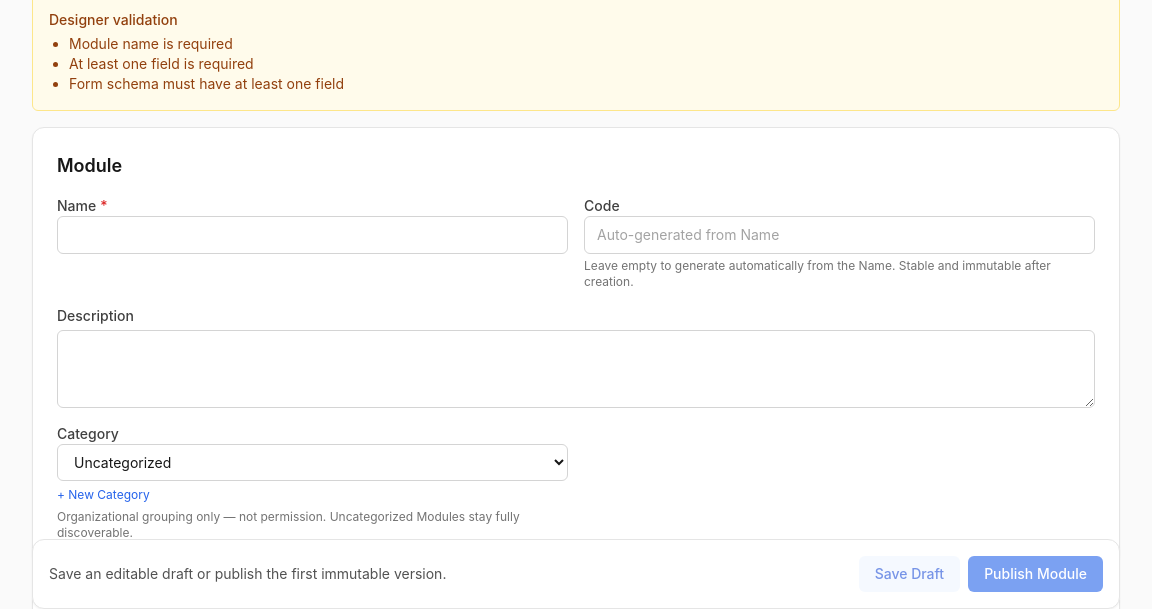
generic Module Designer › uses FormRenderer for preview and creates no canonical Record
Step 1. Type "Preview Module" into the field labelled "Name*" → (312, 235), box [57,216,568,254]
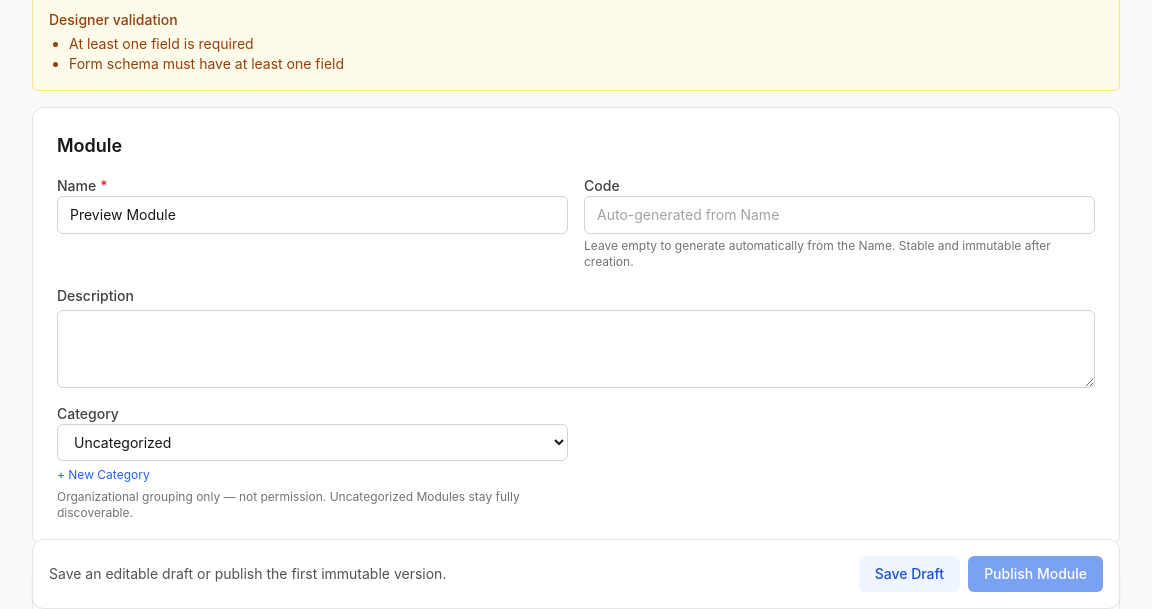
Step 2. Type "PREVIEW_MODULE" into the field labelled "Code" → (840, 215), box [584,196,1095,234]
(page scrolled)
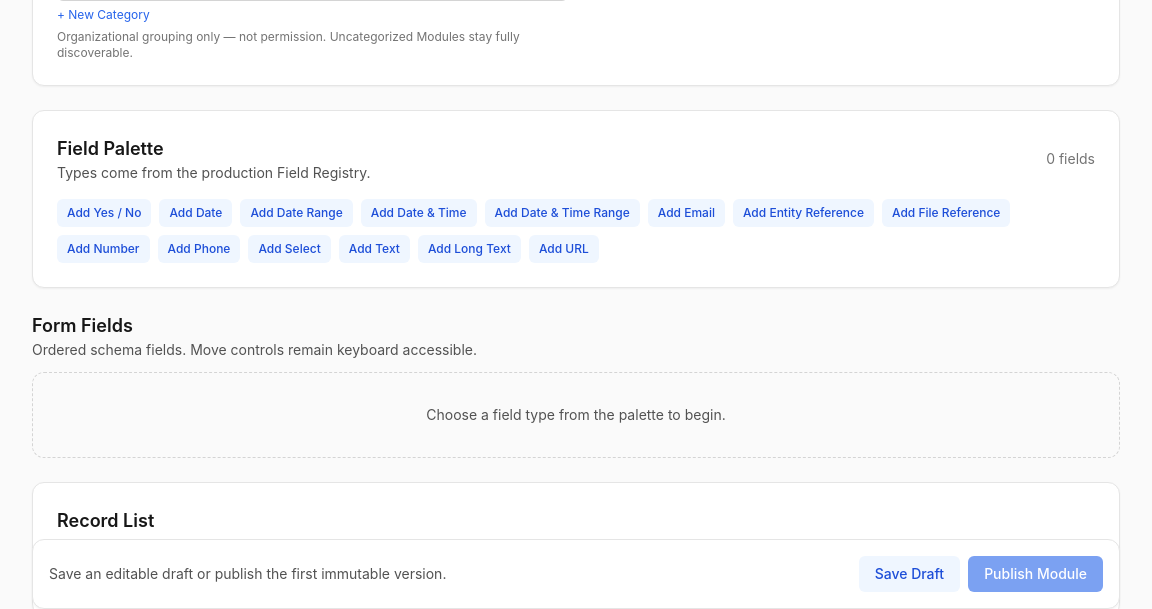
Step 3. Click the button "Add Text" → (374, 249), box [339,235,410,263]
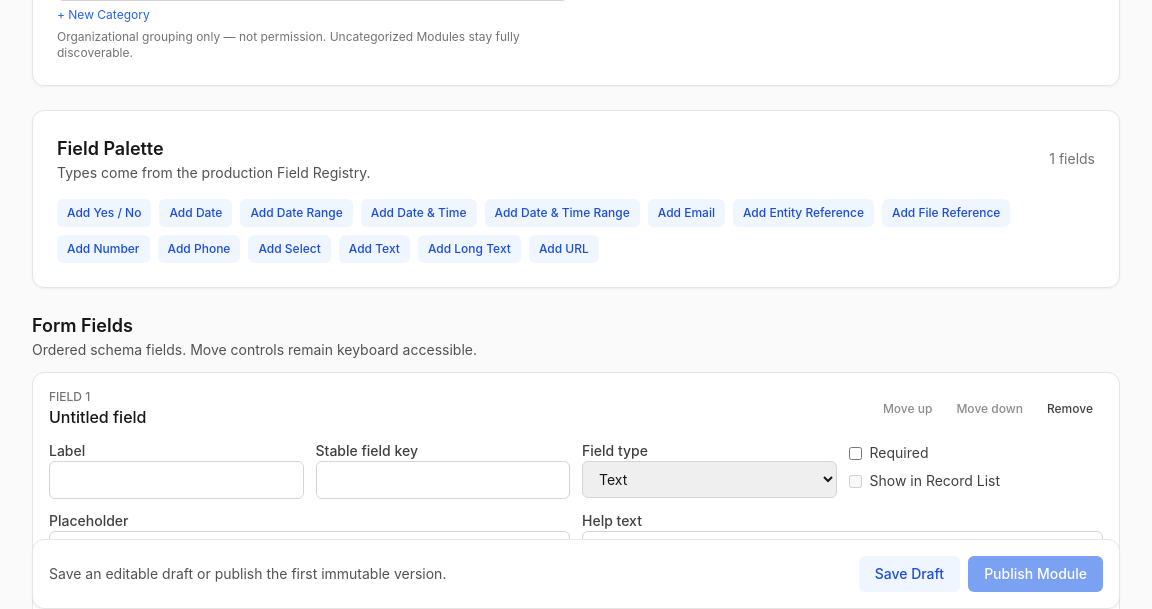
Step 4. Type "Summary" into the field labelled "Label" → (176, 480), box [49,461,304,499]
(page scrolled)
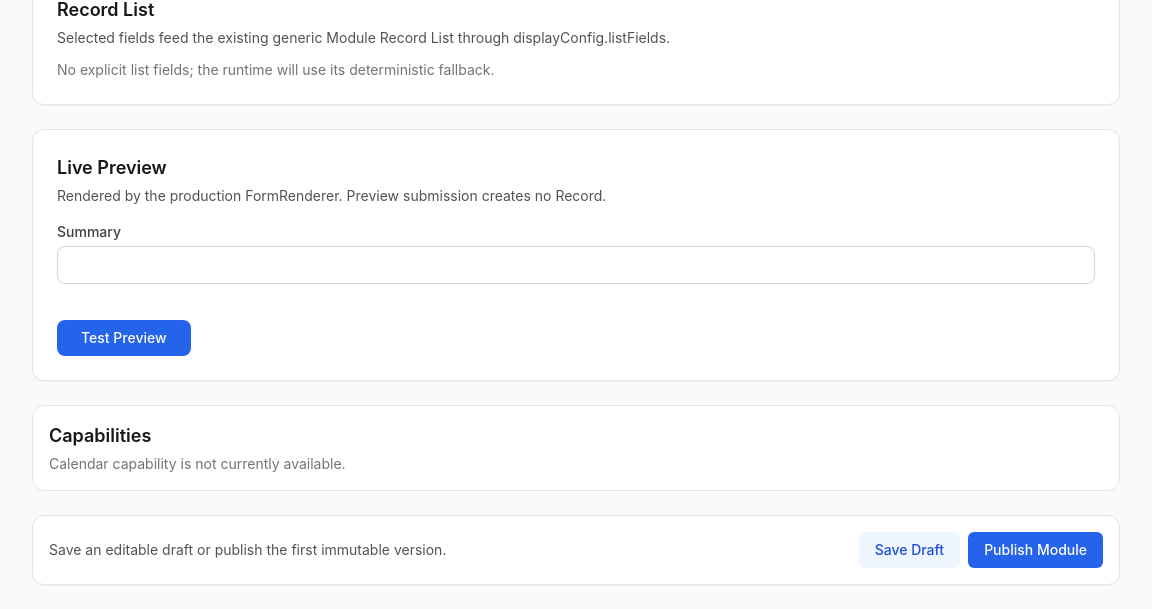
Step 5. Type "Preview only" into the field labelled "Summary" → (576, 265), box [57,246,1095,284]
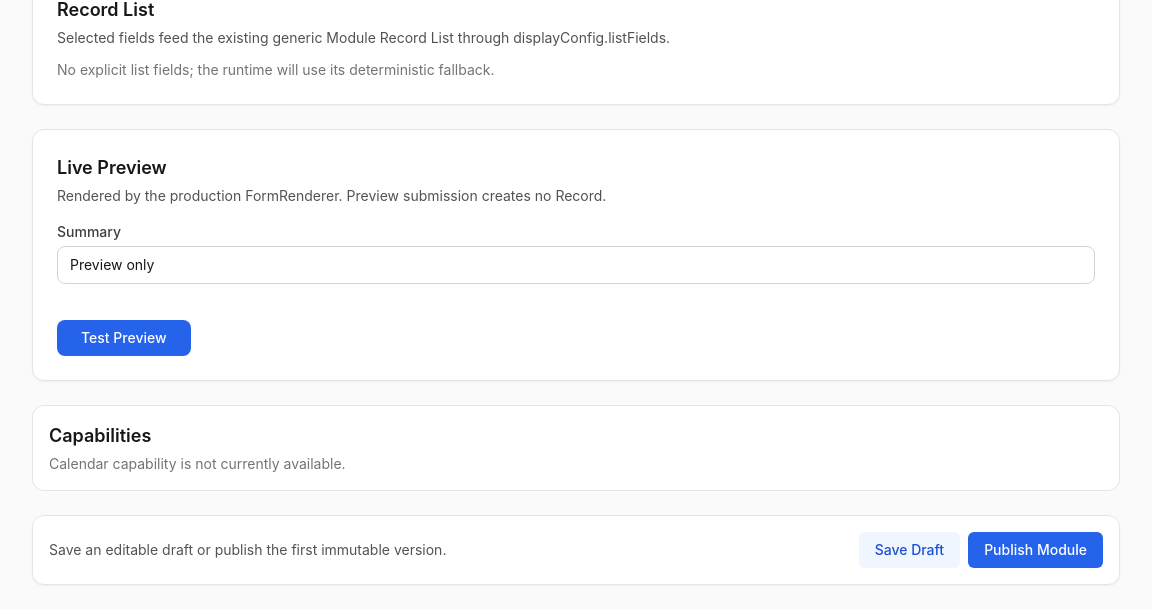
Step 6. Click the button "Test Preview" → (124, 338), box [57,320,191,356]
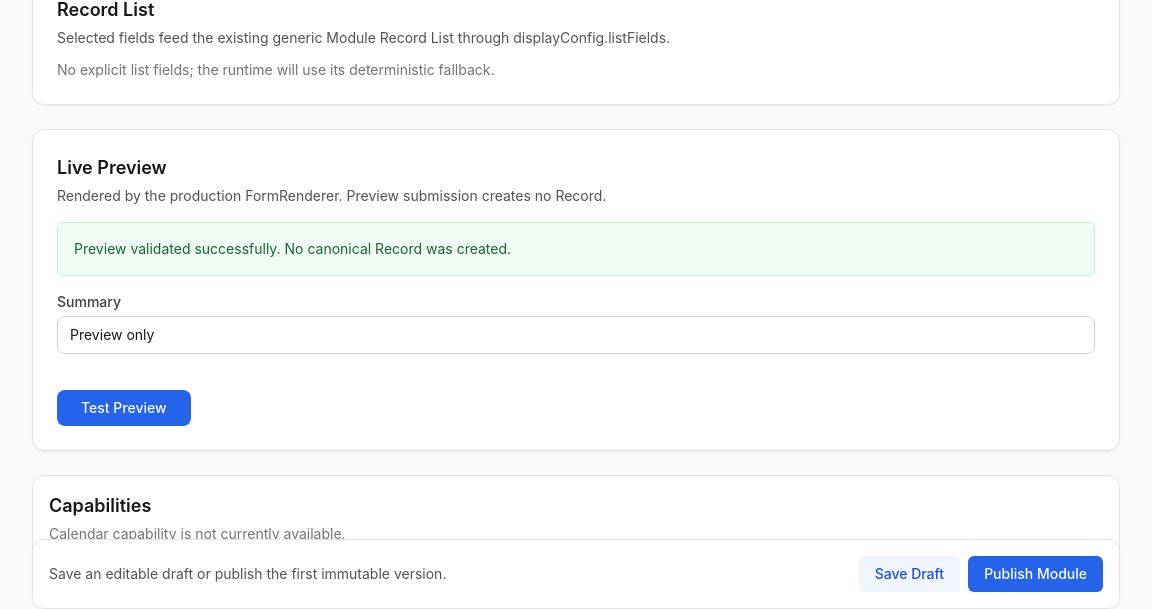
Expected: the text "Preview validated successfully. No canonical Record was created." is shown, [74,240,511,257]
